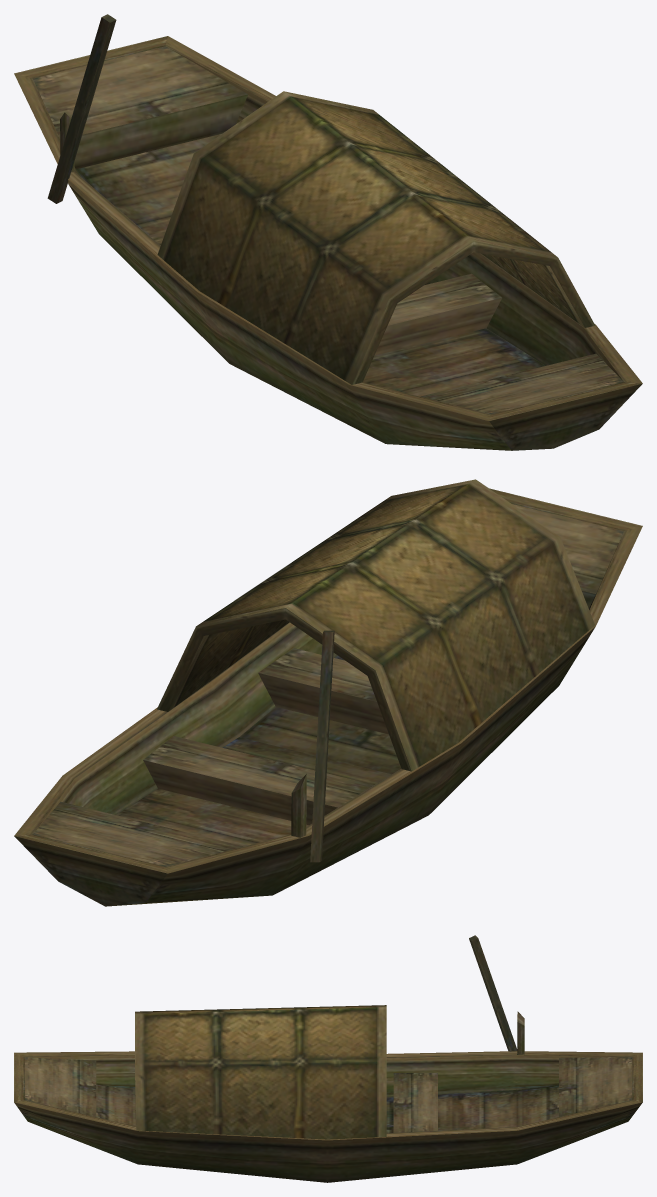
File: Utility_Object_boat03.FBX
3 views of the same model, one above another, from view 1: azimuth 30°, elevation 25°; view 2: azimuth 150°, elevation 25°; view 3: azimuth 270°, elevation 25° (orthographic). The views are drawn at different scales.
Parts seen in each view (by area): view 1: Utility_Object_boat03; view 2: Utility_Object_boat03; view 3: Utility_Object_boat03.
Boxes of the visible parts, <box> form: Utility_Object_boat03: <box>14,14,642,450</box>; Utility_Object_boat03: <box>14,479,642,906</box>; Utility_Object_boat03: <box>14,935,642,1182</box>.
Bounding box in the file's own units: 156 × 158 × 477.
